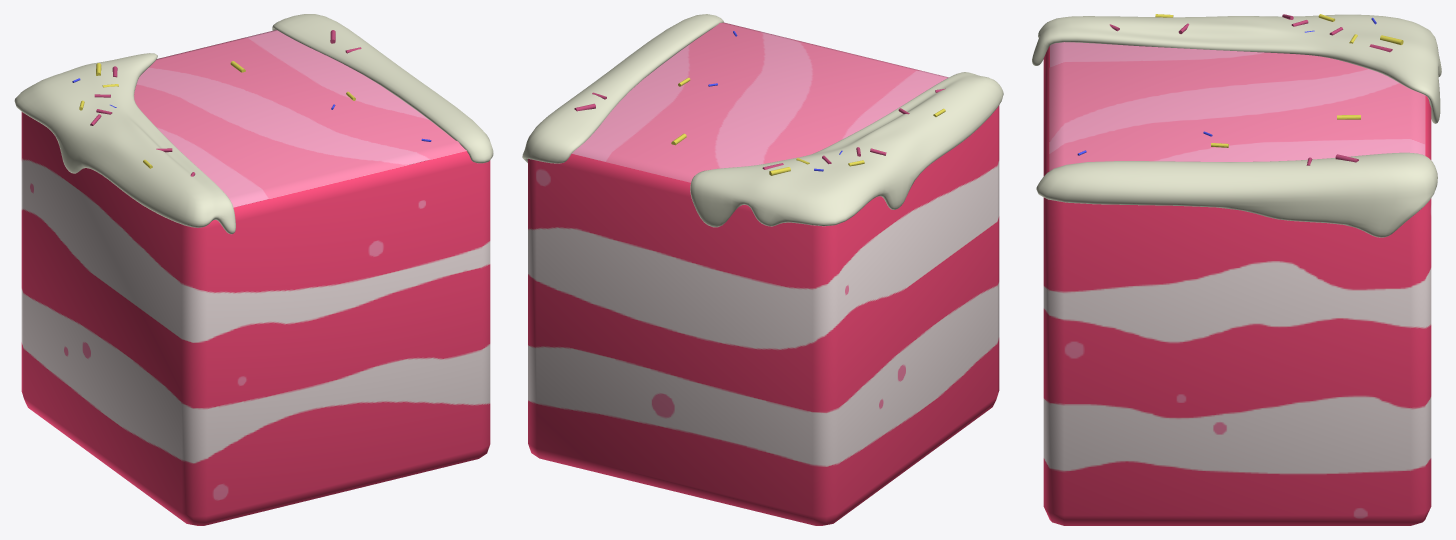
Rendered from strawberry2.fbx.
3 views of the same model, side by side, from view 1: azimuth 30°, elevation 25°; view 2: azimuth 150°, elevation 25°; view 3: azimuth 270°, elevation 25° (orthographic). The views are drawn at different scales.
Parts seen in each view (by area): view 1: Cube, Plane; view 2: Cube, Plane; view 3: Cube, Plane.
Part boxes in pixels (left/top/right/bottom): Cube: left=21, top=30, right=490, bottom=525; Plane: left=14, top=14, right=493, bottom=234; Cube: left=528, top=22, right=999, bottom=525; Plane: left=522, top=14, right=1003, bottom=227; Cube: left=1043, top=42, right=1431, bottom=525; Plane: left=1032, top=14, right=1441, bottom=237.
Size of the model in its own units: 212 by 211 by 212.
